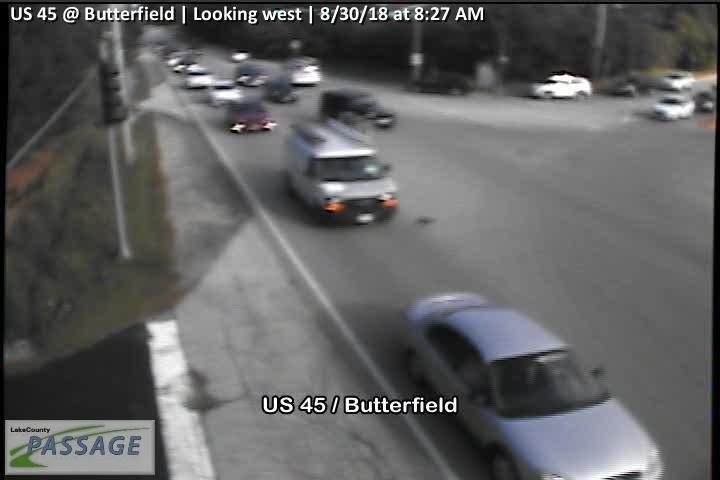SUV: (285, 120, 400, 227), (320, 87, 399, 133), (529, 71, 593, 102), (652, 92, 695, 121), (660, 68, 696, 90), (237, 62, 267, 86), (182, 67, 213, 89)
Sedan: (403, 290, 668, 480), (224, 95, 279, 137), (409, 69, 473, 96), (284, 55, 321, 86), (610, 77, 655, 98), (207, 81, 241, 104), (264, 82, 299, 104), (229, 49, 250, 63)
